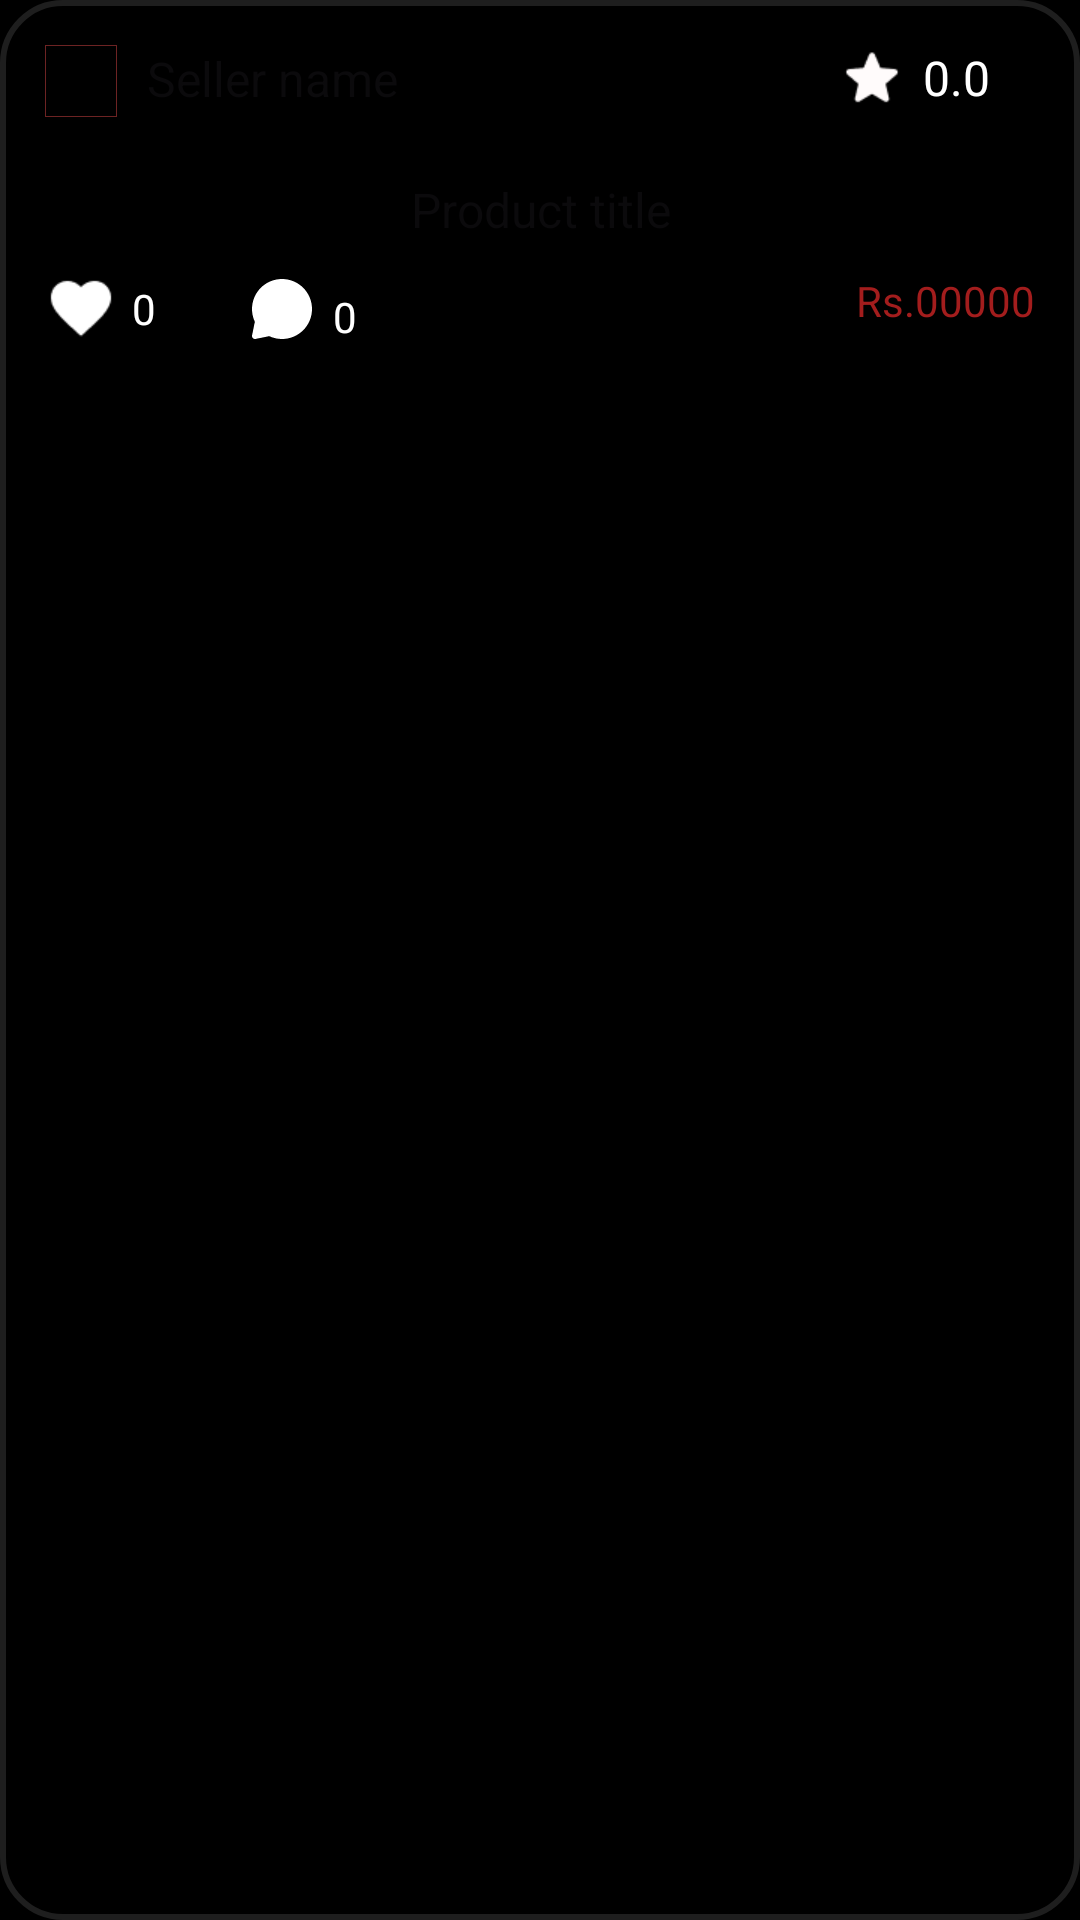

Where icons sit on this 1080w x 1920h app screen, as (x1, y1, x2, y2):
comment: (252, 279, 312, 339)
like: (50, 280, 112, 337)
rate: (846, 52, 898, 103)
